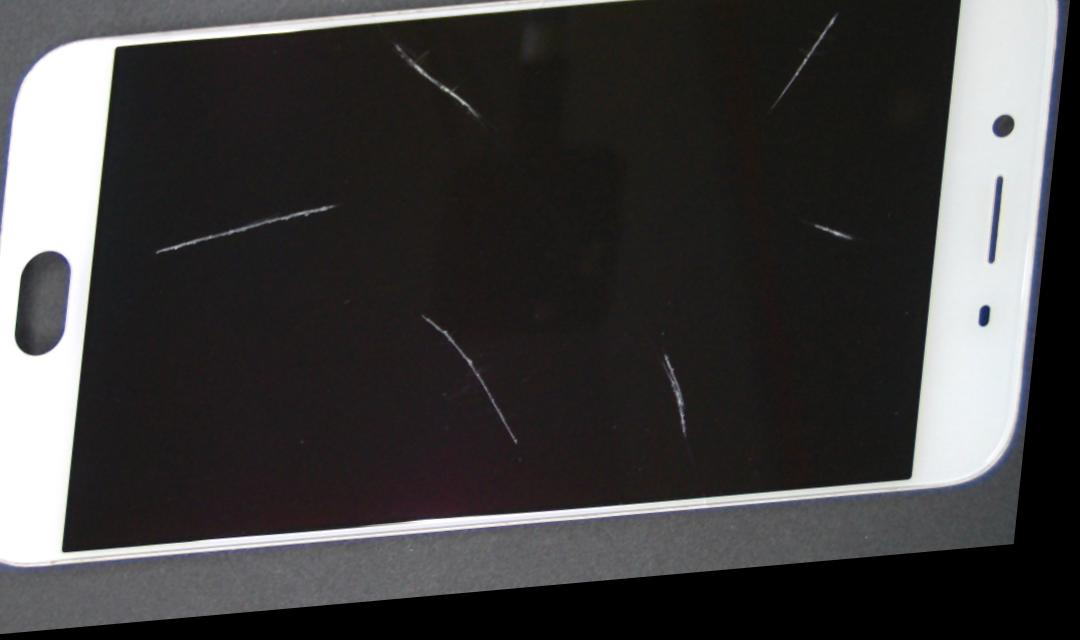Scratches: (398, 302, 524, 460), (146, 182, 342, 281), (754, 11, 868, 121), (378, 34, 494, 133), (645, 334, 710, 458), (783, 201, 868, 255)
